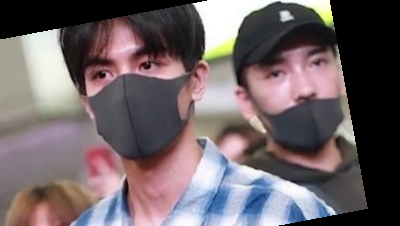mask_weared_incorrect: (220, 2, 351, 157)
